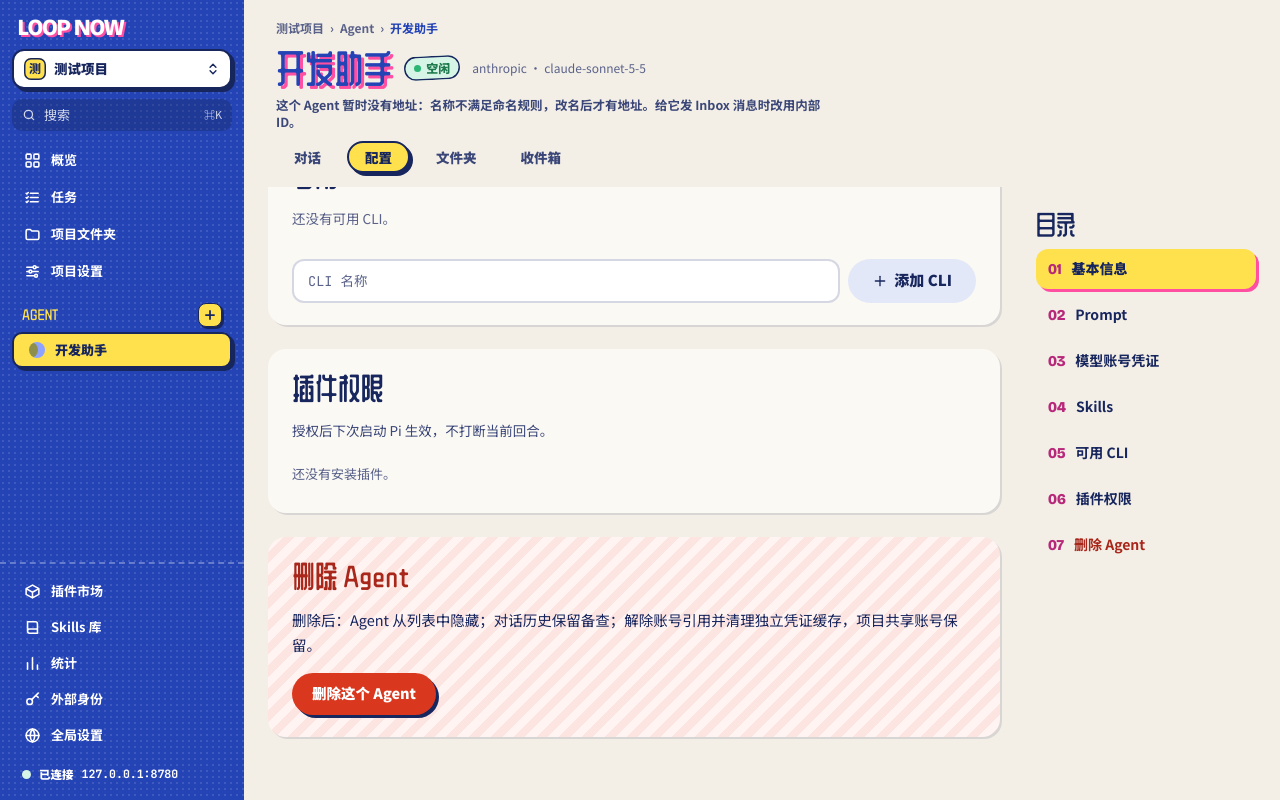
连接与错误展示 › 修改因无法连接而失败时也显示全局提示，之后任一请求成功即消失
This screenshot has width=1280, height=800.
(page scrolled)
Click the button "删除这个 Agent": (364, 694) [292,673,436,715]
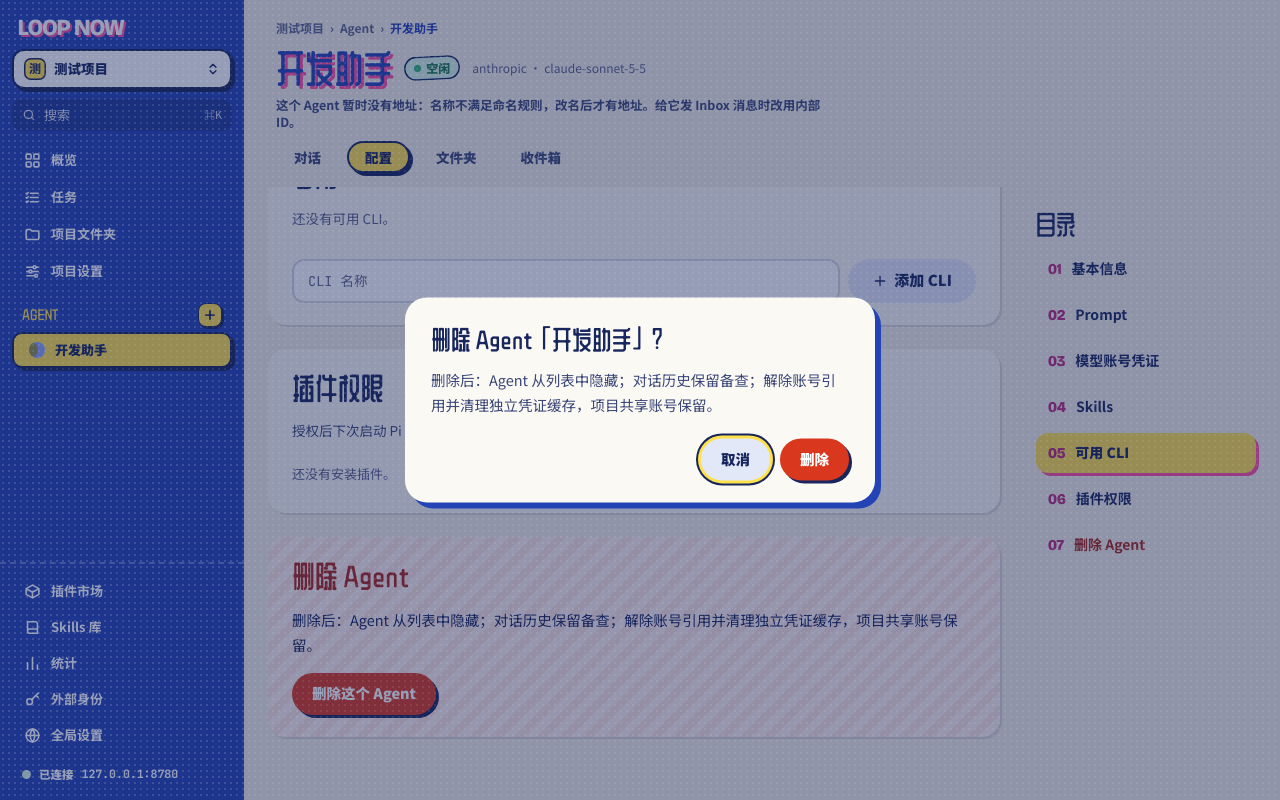
Click the button "删除": (814, 460) [780,439,849,481]
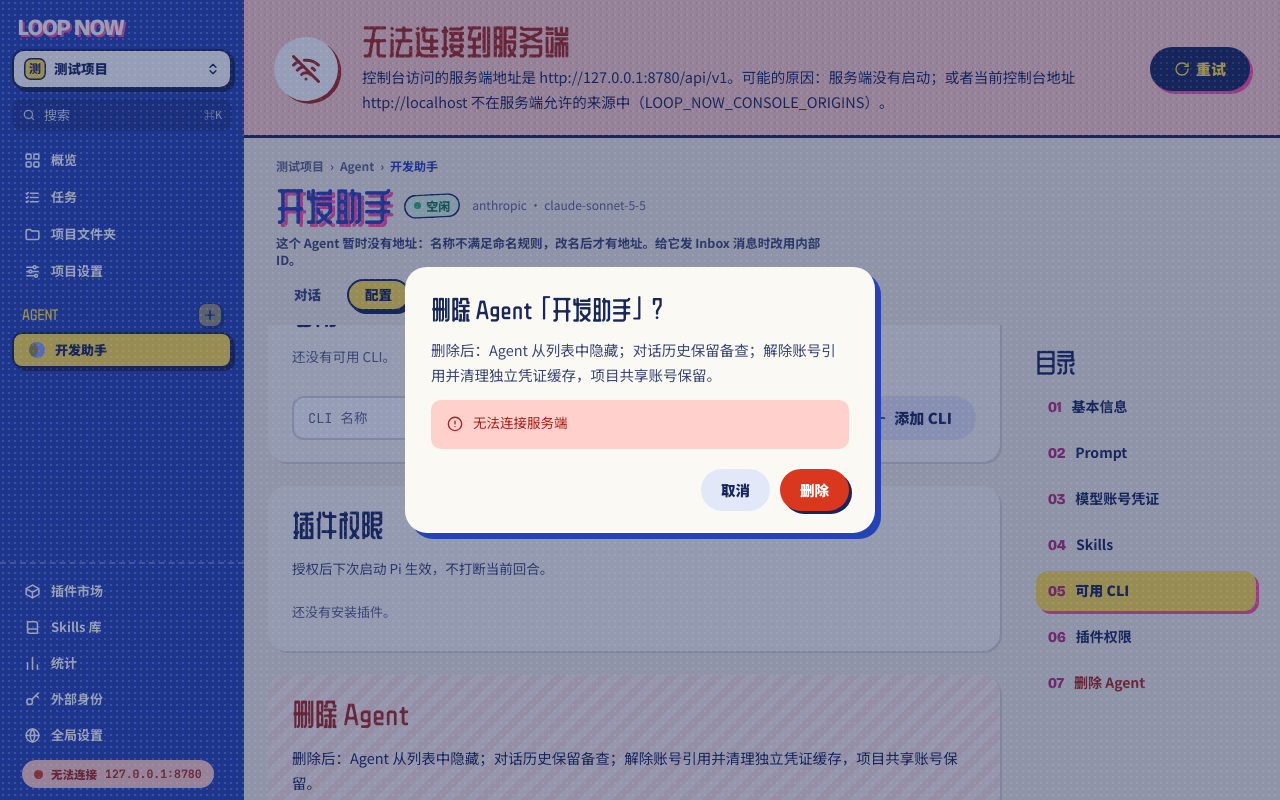
expect the text "控制台访问的服务端地址是" shows "http://127.0.0.1:8780/api/v1": met, box [362,68,1075,112]
Click the button "取消": (736, 490) [701,469,770,511]
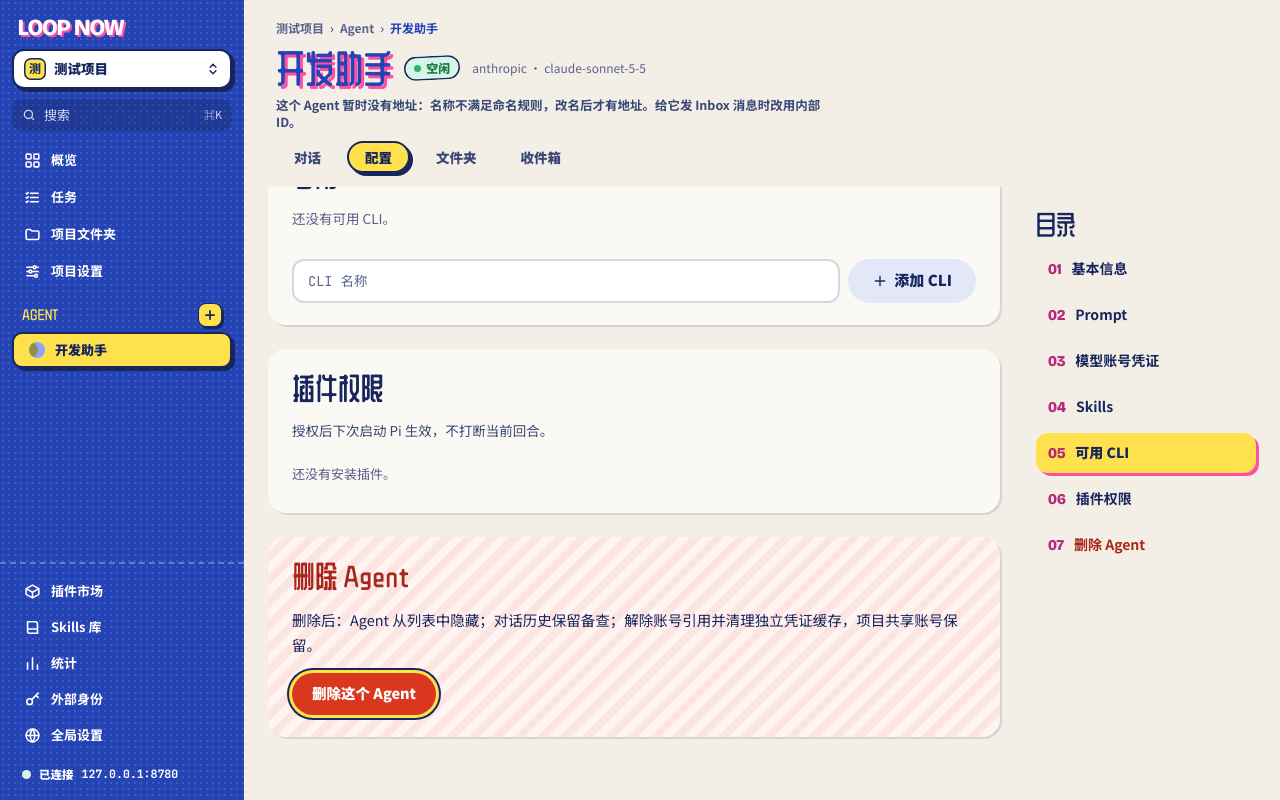
expect the text "控制台访问的服务端地址是" is gone: met
